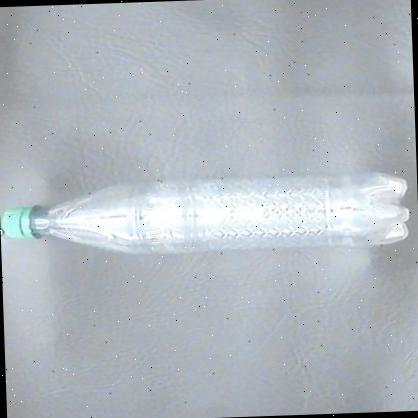bottle: (0, 163, 410, 262)
cap: (0, 195, 43, 245)
